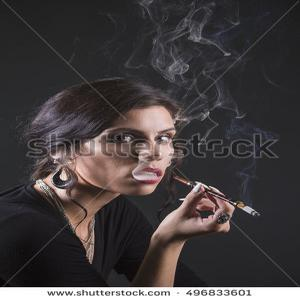cigarette: (169, 173, 269, 223)
